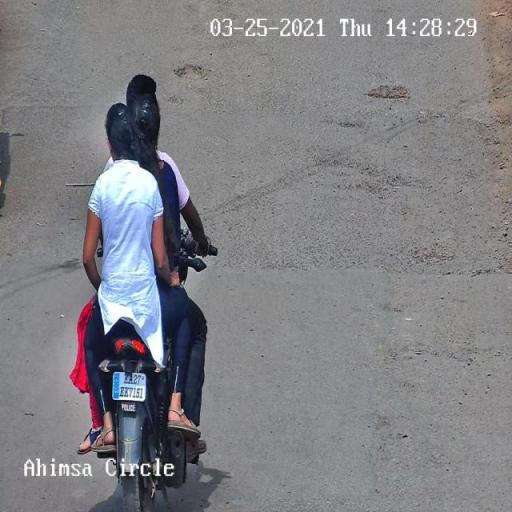tripple riding: (78, 67, 220, 298)
